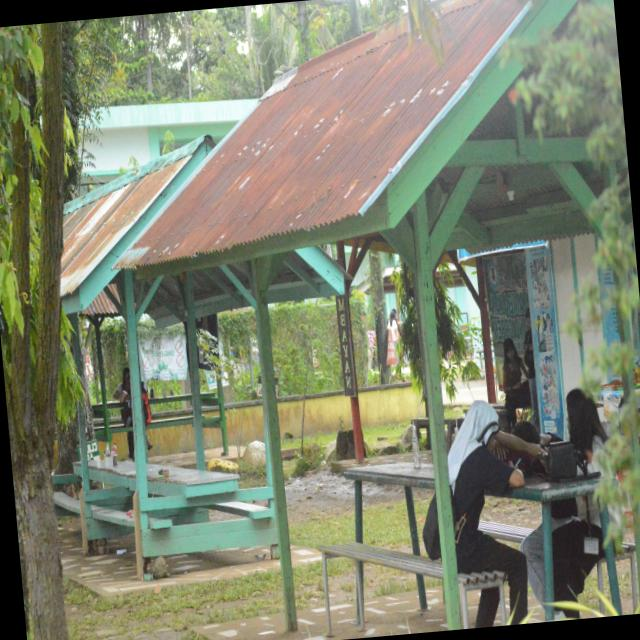person: (447, 401, 540, 622), (502, 339, 529, 428), (523, 309, 539, 430)
